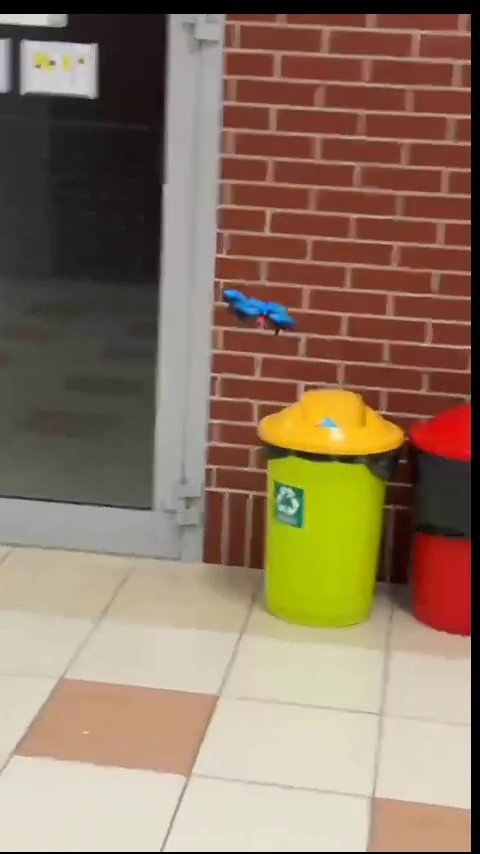drone: (221, 286, 293, 338)
